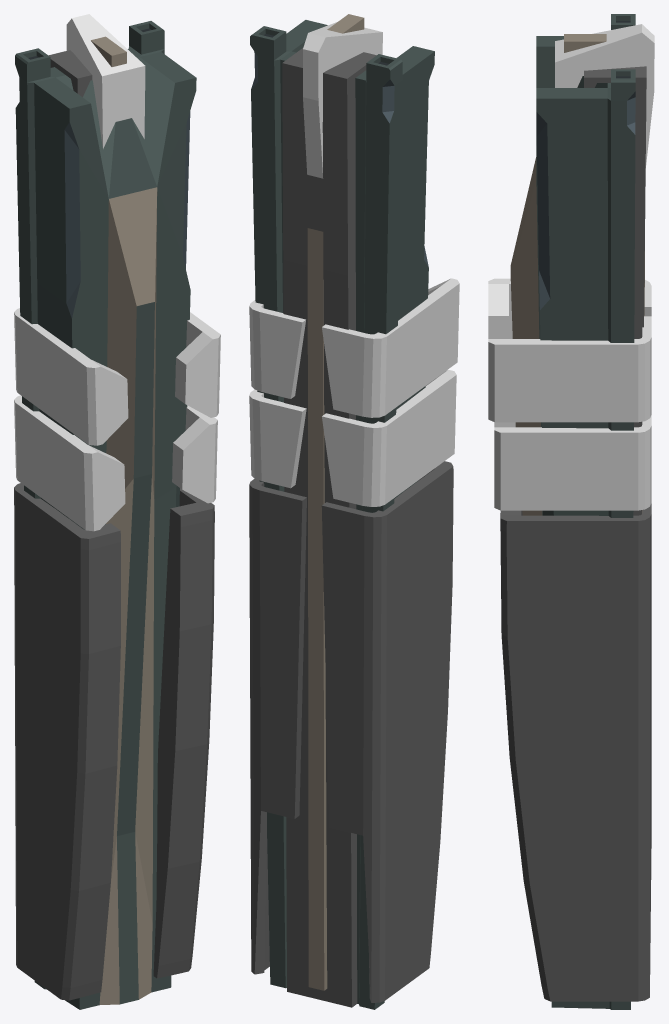
File: building_39.fbx
The picture shows the model from 3 angles, left to right: view 1: azimuth 30°, elevation 25°; view 2: azimuth 150°, elevation 25°; view 3: azimuth 270°, elevation 25°; orthographic projection.
Visible parts, largest first — view 1: building_39; view 2: building_39; view 3: building_39.
Boxes of the visible parts, left/top/right/bottom form: building_39: left=14, top=14, right=220, bottom=1009; building_39: left=249, top=14, right=459, bottom=1009; building_39: left=488, top=14, right=654, bottom=1009.
Size of the model in its own units: 651 by 4293 by 675.
